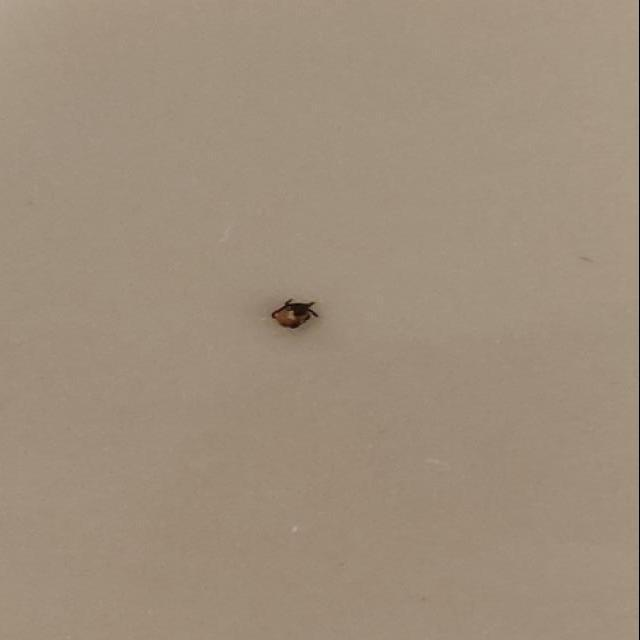Ixodes Ricinus-F-Fed: (268, 294, 326, 332)
